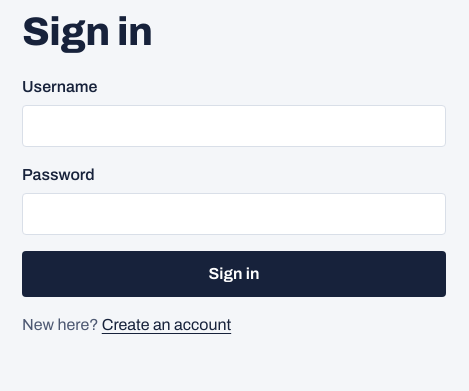
Scenario: auth pages › shows the server’s message on bad credentials
This screenshot has width=469, height=391.
Type "alice" into the field labelled "Username" at (234,126), box [22,105,446,147]
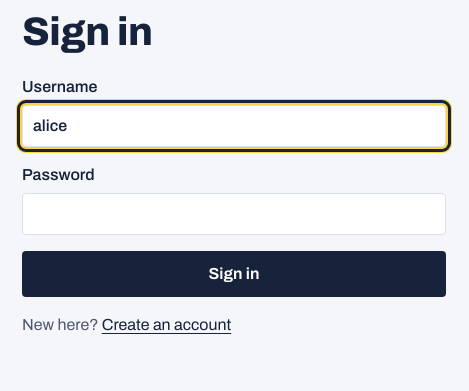
Type "nope" into the password field labelled "Password" at (234,214), box [22,193,446,235]
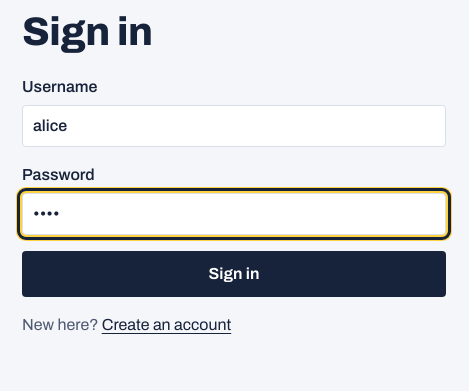
Click the button "Sign in" at (234,274), box [22,251,446,297]
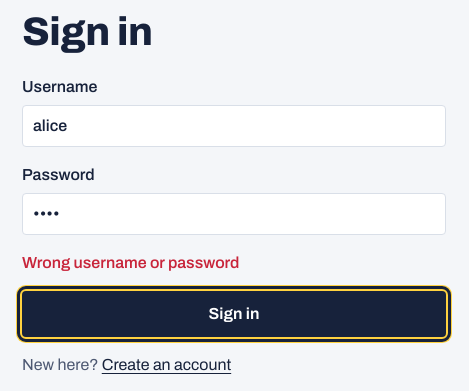
expect the message reads "Wrong username or password": met, box [22,254,240,271]
